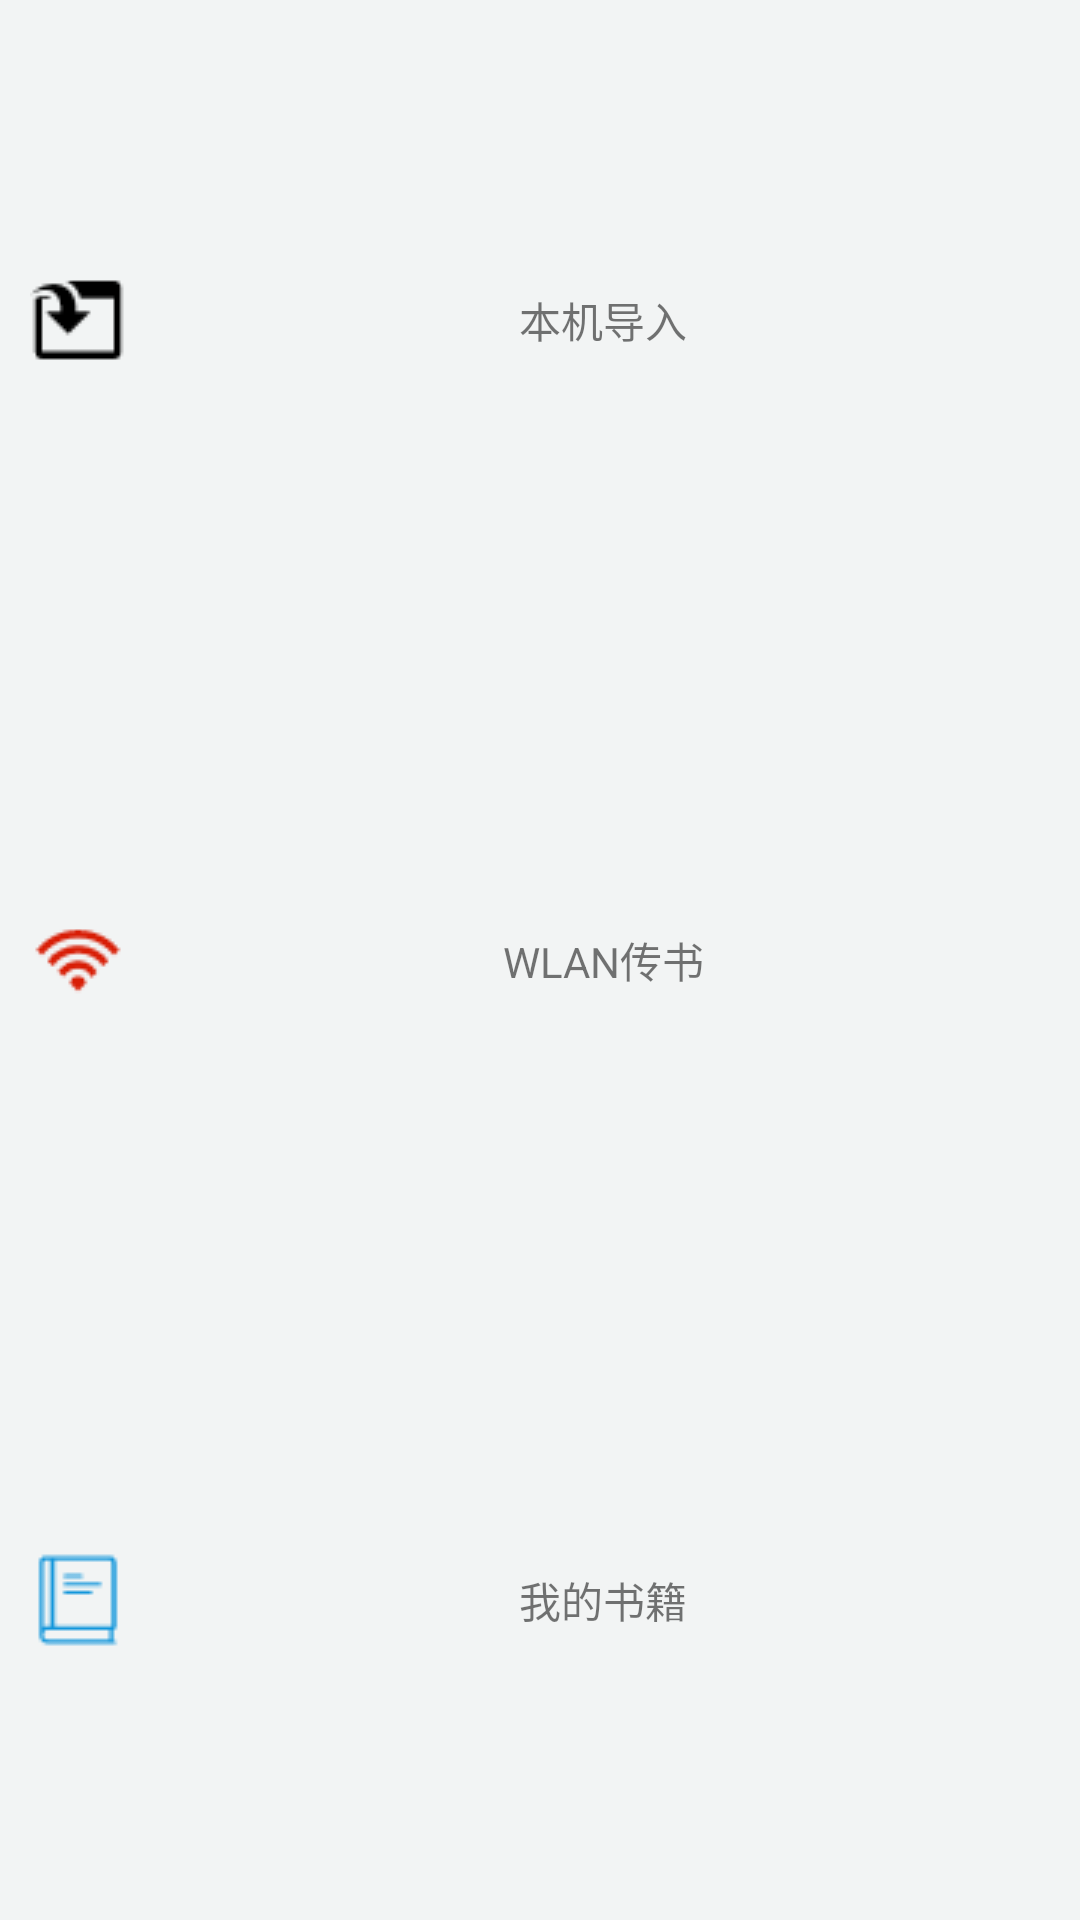

Where icons sit on this 1080 x 1920 app screen, as (x1, y1, x2, y2):
mybooks: (38, 1554, 118, 1646)
